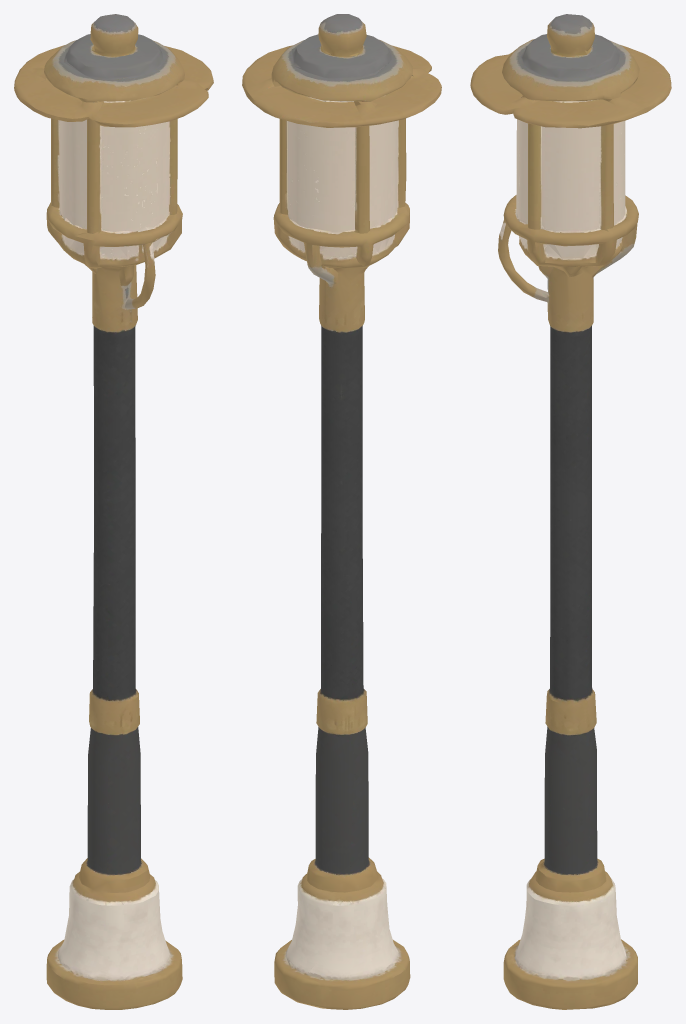
Rendered from lamp_post.glb.
The picture shows the model from 3 angles, left to right: view 1: azimuth 30°, elevation 25°; view 2: azimuth 150°, elevation 25°; view 3: azimuth 270°, elevation 25°; orthographic projection.
Parts seen in each view (by area): view 1: body, light; view 2: body, light; view 3: body, light.
Boxes of the visible parts, box(x1,y1,x2,y2) form: body: box(14, 14, 213, 1009); light: box(59, 119, 168, 257); body: box(242, 14, 441, 1009); light: box(287, 101, 398, 251); body: box(470, 14, 671, 1009); light: box(515, 119, 627, 257).
Bounding box in the file's own units: 0.7963 × 4.2 × 0.7944.
1 material, 1 textured.
